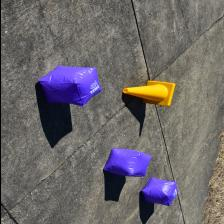cone: (122, 80, 175, 106)
cube: (36, 66, 102, 106), (102, 148, 152, 176), (141, 177, 177, 206)
